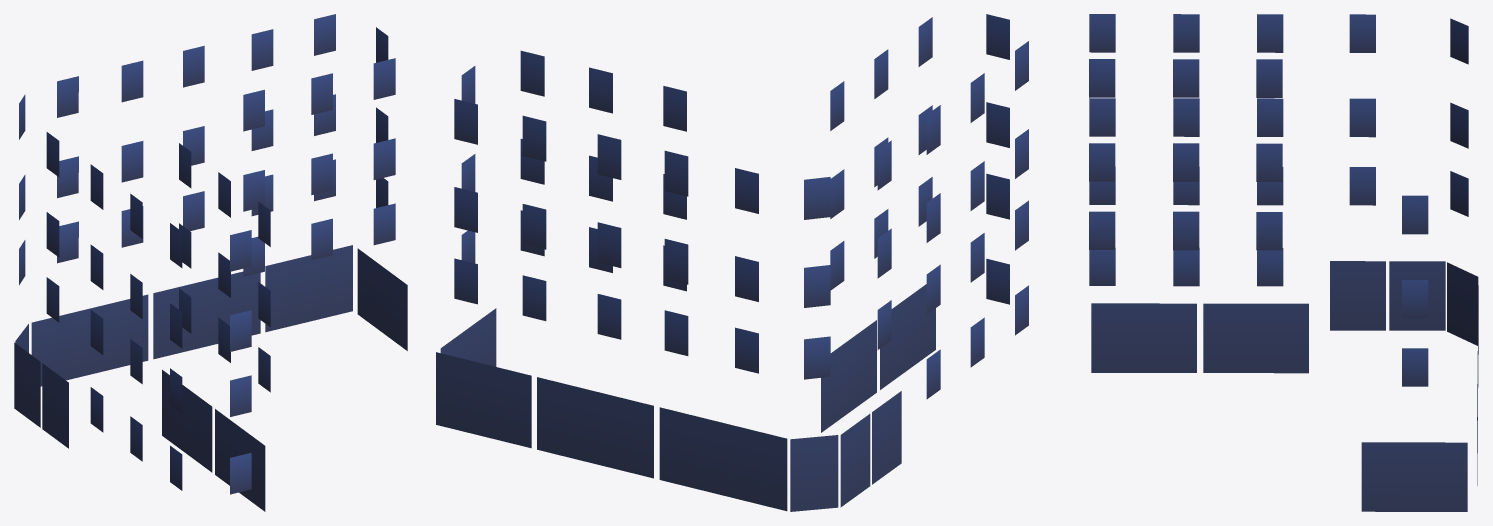
File: windowRefl.059.fbx
The picture shows the model from 3 angles, left to right: view 1: azimuth 30°, elevation 25°; view 2: azimuth 150°, elevation 25°; view 3: azimuth 270°, elevation 25°; orthographic projection. The views are drawn at different scales.
Parts seen in each view (by area): view 1: windowRefl.059; view 2: windowRefl.059; view 3: windowRefl.059.
Part boxes in pixels (<box>): windowRefl.059: <box>14,14,407,511</box>; windowRefl.059: <box>436,14,1028,511</box>; windowRefl.059: <box>1089,14,1478,511</box>.
Size of the model in its own units: 1955 by 1998 by 1617.
